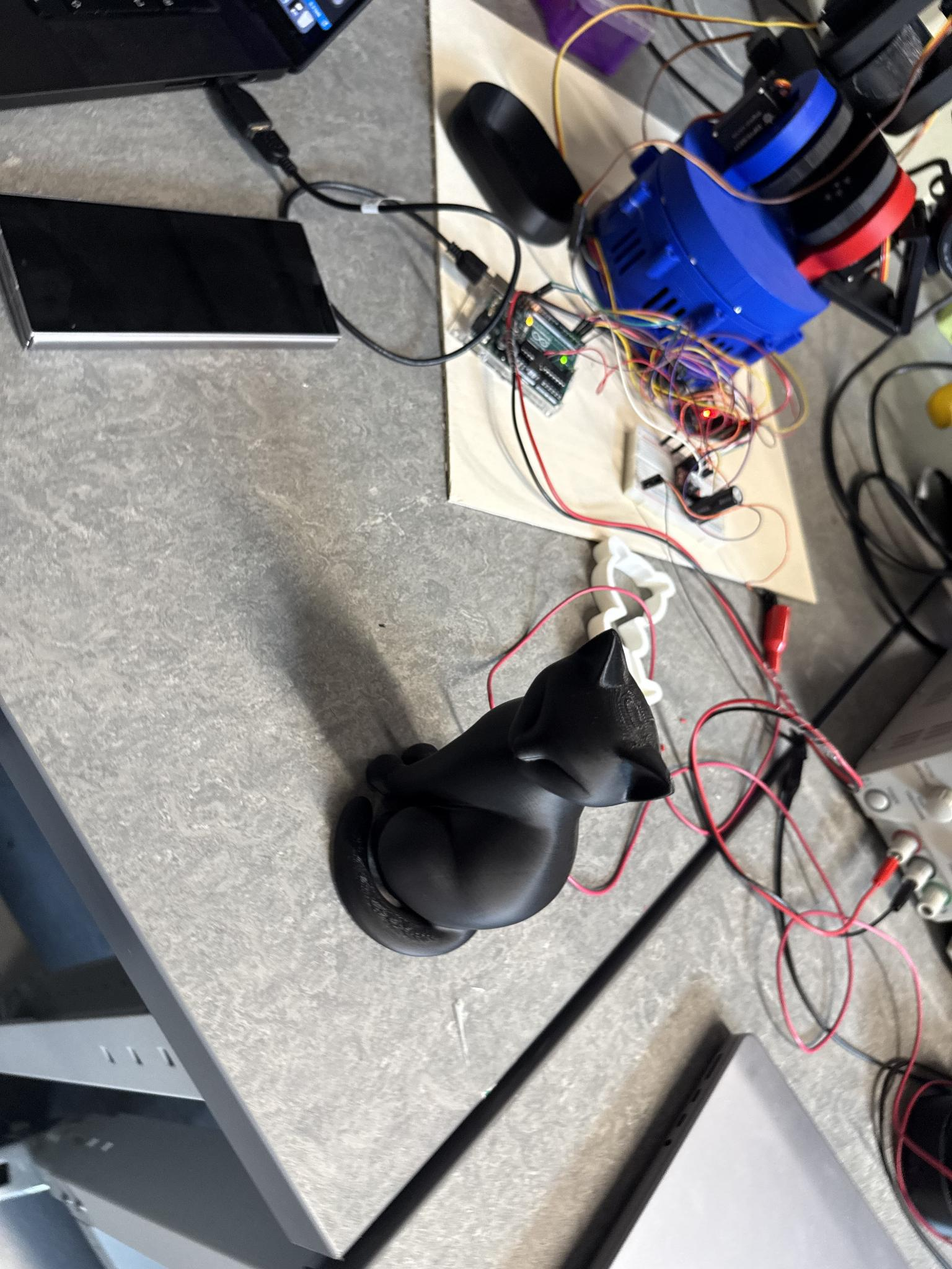cat: (329, 630, 672, 957)
